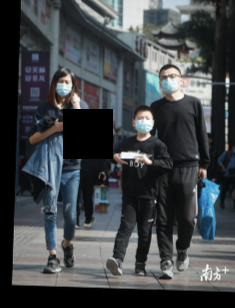with_mask: (158, 72, 181, 94), (134, 114, 153, 134), (54, 78, 72, 98)
